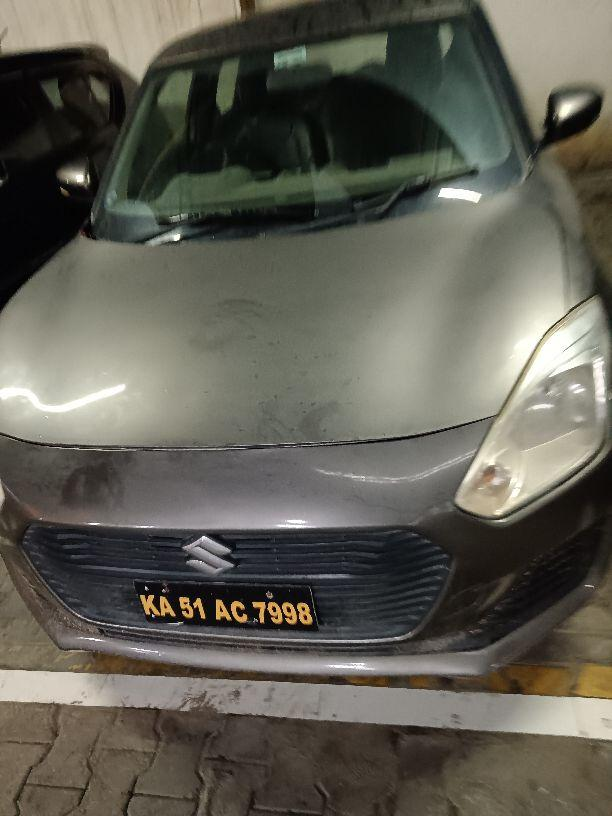license_plate: (131, 577, 319, 631)
